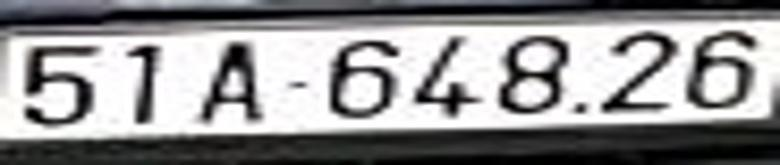-: (284, 77, 313, 93)
.: (577, 102, 586, 114)
1: (126, 44, 159, 126)
2: (606, 29, 670, 112)
4: (416, 34, 474, 117)
5: (25, 42, 97, 129)
6: (327, 39, 394, 116), (691, 29, 754, 105)
8: (502, 33, 565, 115)
A: (196, 37, 265, 123)
